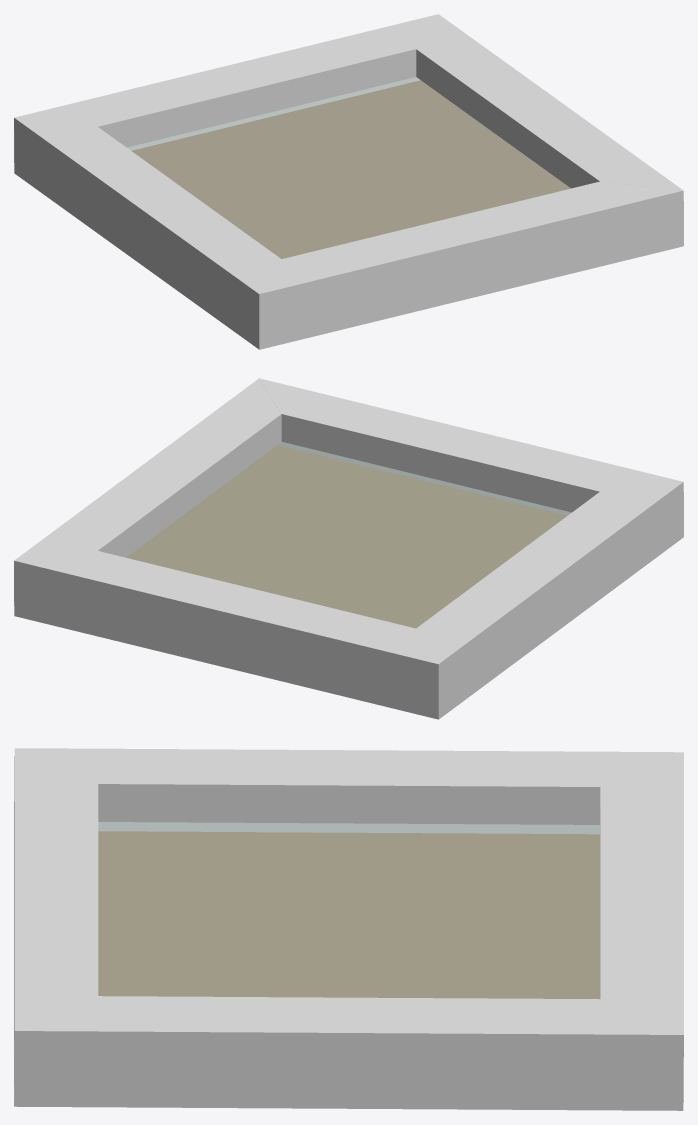
Rendered from cuadroDefinitivo.glb.
3 renders of one model, top to bottom at view 1: azimuth 30°, elevation 25°; view 2: azimuth 150°, elevation 25°; view 3: azimuth 270°, elevation 25°, orthographic. The views are drawn at different scales.
Visible parts, largest first — view 1: vidrio, tapa, liston.003, liston.001, liston.004, liston.002; view 2: vidrio, tapa, liston.004, liston.001, liston.003, liston.002; view 3: vidrio, tapa, liston.002, liston.001, liston.003, liston.004.
Boxes of the visible parts, bbox=[...] form: vidrio: bbox=[127, 77, 570, 258]; tapa: bbox=[132, 80, 570, 258]; liston.003: bbox=[259, 181, 683, 349]; liston.001: bbox=[14, 117, 281, 349]; liston.004: bbox=[14, 14, 438, 162]; liston.002: bbox=[416, 14, 683, 190]; vidrio: bbox=[126, 442, 571, 627]; tapa: bbox=[126, 445, 567, 628]; liston.004: bbox=[14, 551, 438, 719]; liston.001: bbox=[416, 482, 683, 719]; liston.003: bbox=[259, 378, 683, 522]; liston.002: bbox=[14, 378, 281, 605]; vidrio: bbox=[98, 822, 599, 998]; tapa: bbox=[98, 831, 599, 999]; liston.002: bbox=[14, 996, 683, 1110]; liston.001: bbox=[15, 748, 682, 834]; liston.003: bbox=[14, 748, 98, 1100]; liston.004: bbox=[600, 752, 683, 1100].
Size of the model in its own units: 1.6 by 0.2107 by 1.6.
